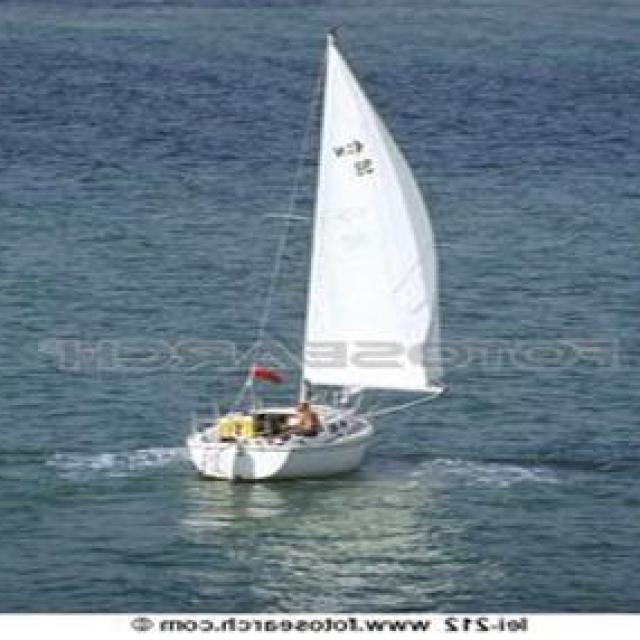sailboat: (185, 21, 447, 485)
